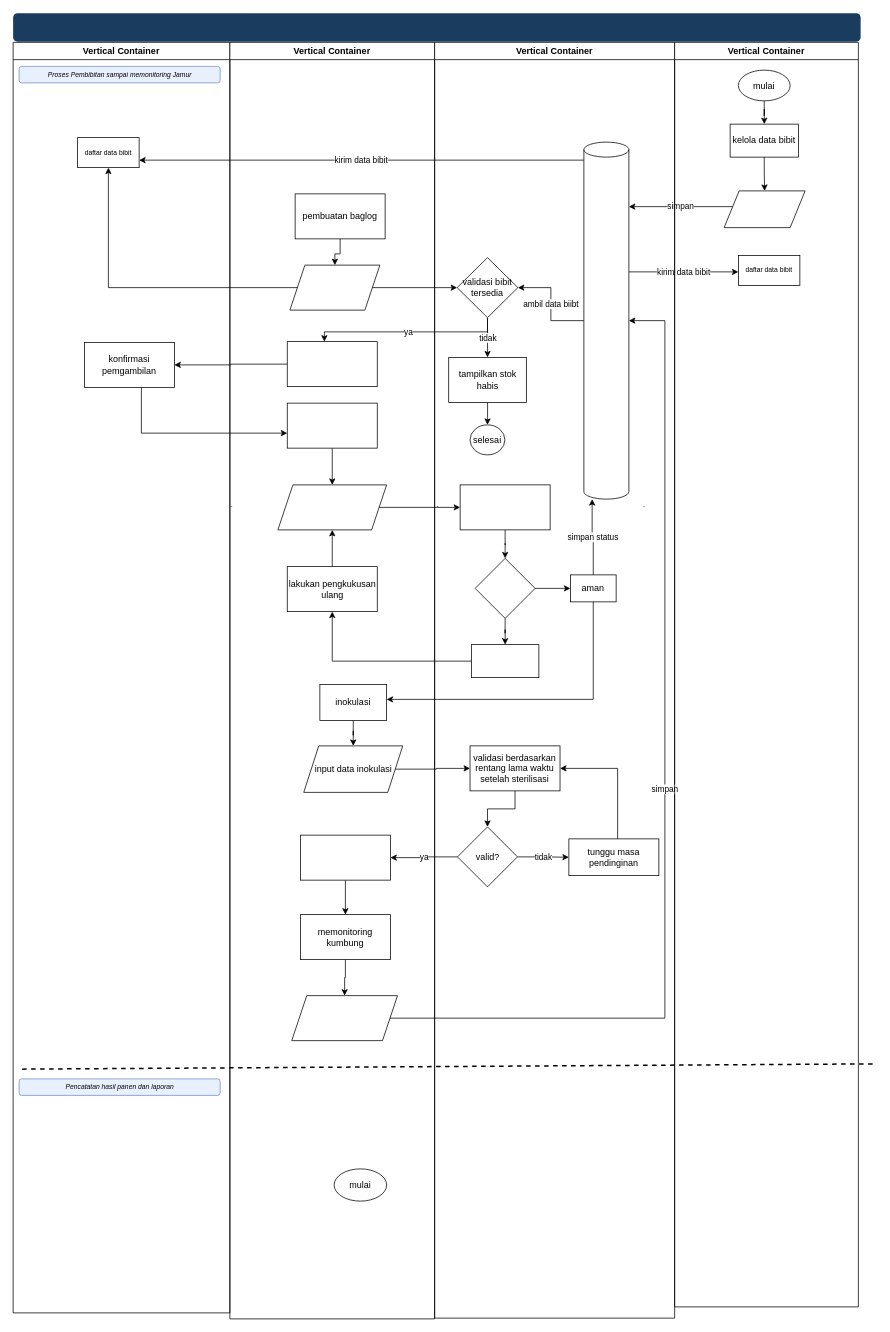
Some shapes in this 890 by 1332 pixel diagram are drawn without their labels. Here are the shapes that lost their labels. From the top down, the centre of each, then its label:
the point at 436,27: ALUR UTAMA SISTEM INFORMASI PRODUKSI JAMUR TIRAM
the point at 764,209: input data bibit
the point at 334,287: input data baglog
the point at 606,320: Database
the point at 331,364: tunggu konfirmasi pengambilan bibit
the point at 331,425: sterilisasi baglog
the point at 332,507: input data sterilisasi
the point at 504,507: proses status berdasarkan jam dan kondisi air tersisa
the point at 504,588: hasil status
the point at 505,661: beresiko
the point at 345,857: penyuntikan bibit jamur ke dalam baglog
the point at 344,1018: input hasil monitoring
